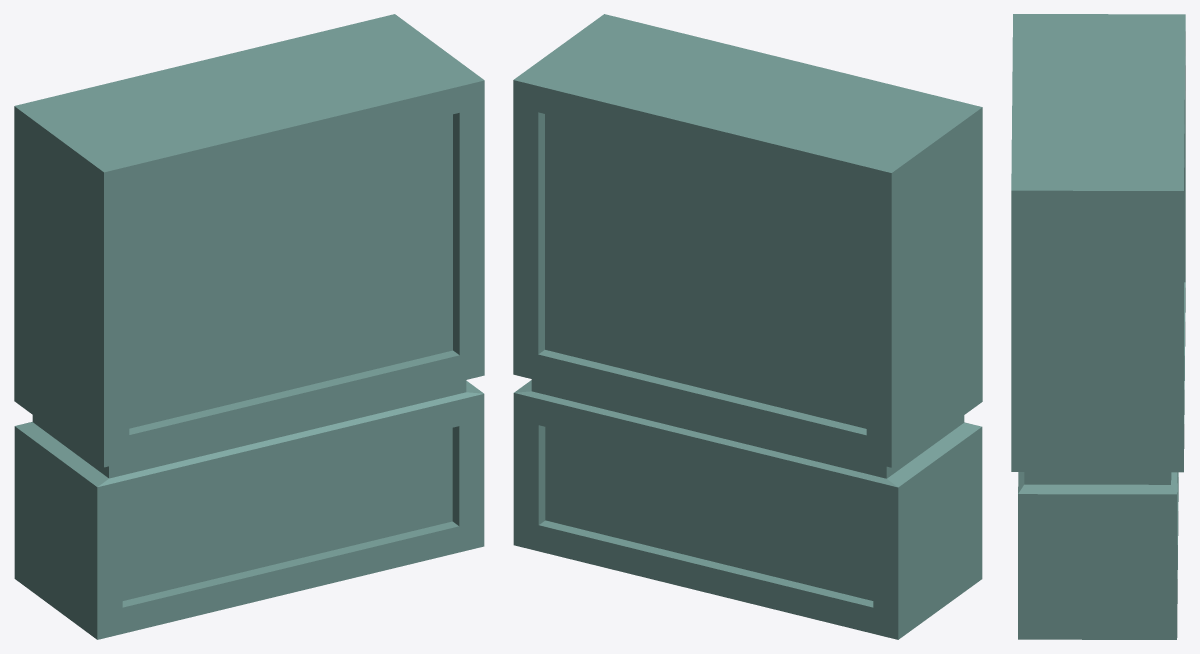
The model's file is building 13.fbx.
3 renders of one model, left to right at view 1: azimuth 30°, elevation 25°; view 2: azimuth 150°, elevation 25°; view 3: azimuth 270°, elevation 25°, orthographic. The views are drawn at different scales.
Visible parts, largest first — view 1: building 13; view 2: building 13; view 3: building 13.
Part boxes in pixels (<box>): building 13: <box>14,14,484,639</box>; building 13: <box>513,14,982,639</box>; building 13: <box>1011,14,1185,639</box>.
Size of the model in its own units: 3445 by 3997 by 1411.
